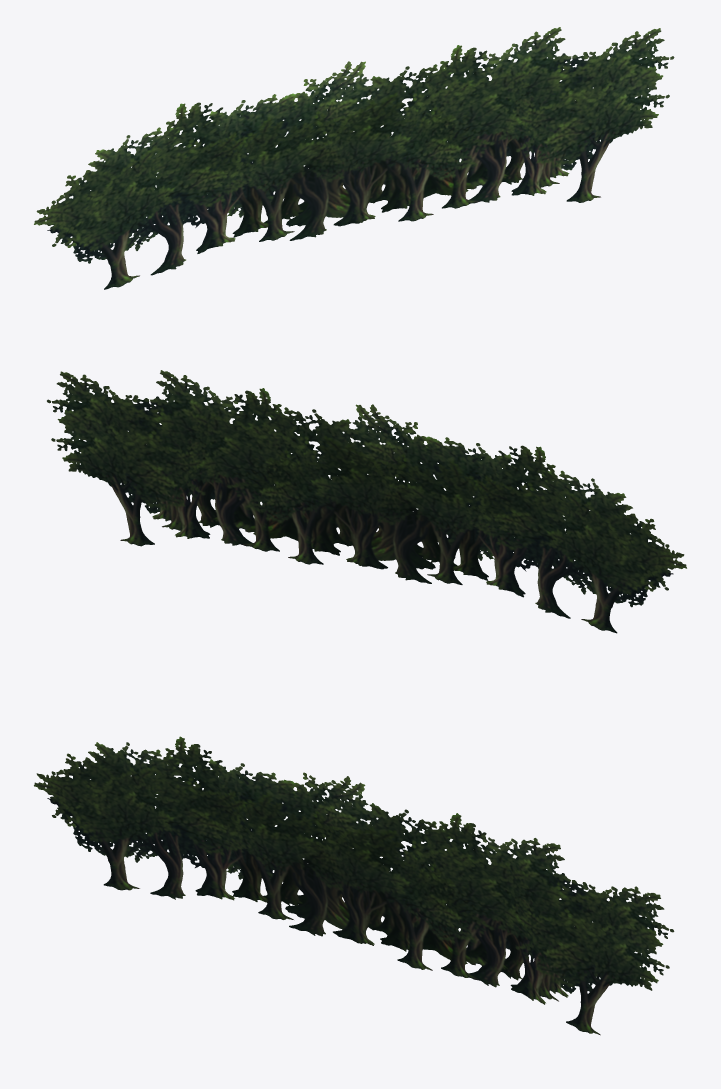
File: Castle Tower_Tree Group B.FBX
3 views of the same model, one above another, from view 1: azimuth 30°, elevation 25°; view 2: azimuth 150°, elevation 25°; view 3: azimuth 330°, elevation 25° (orthographic).
Visible parts, largest first — view 1: Tree Group B; view 2: Tree Group B; view 3: Tree Group B.
Boxes of the visible parts, x1,y1,x2,y2 form: Tree Group B: (34, 27, 674, 289); Tree Group B: (47, 370, 686, 633); Tree Group B: (34, 736, 674, 1035).
Size of the model in its own units: 2829 by 3.11 by 937.
